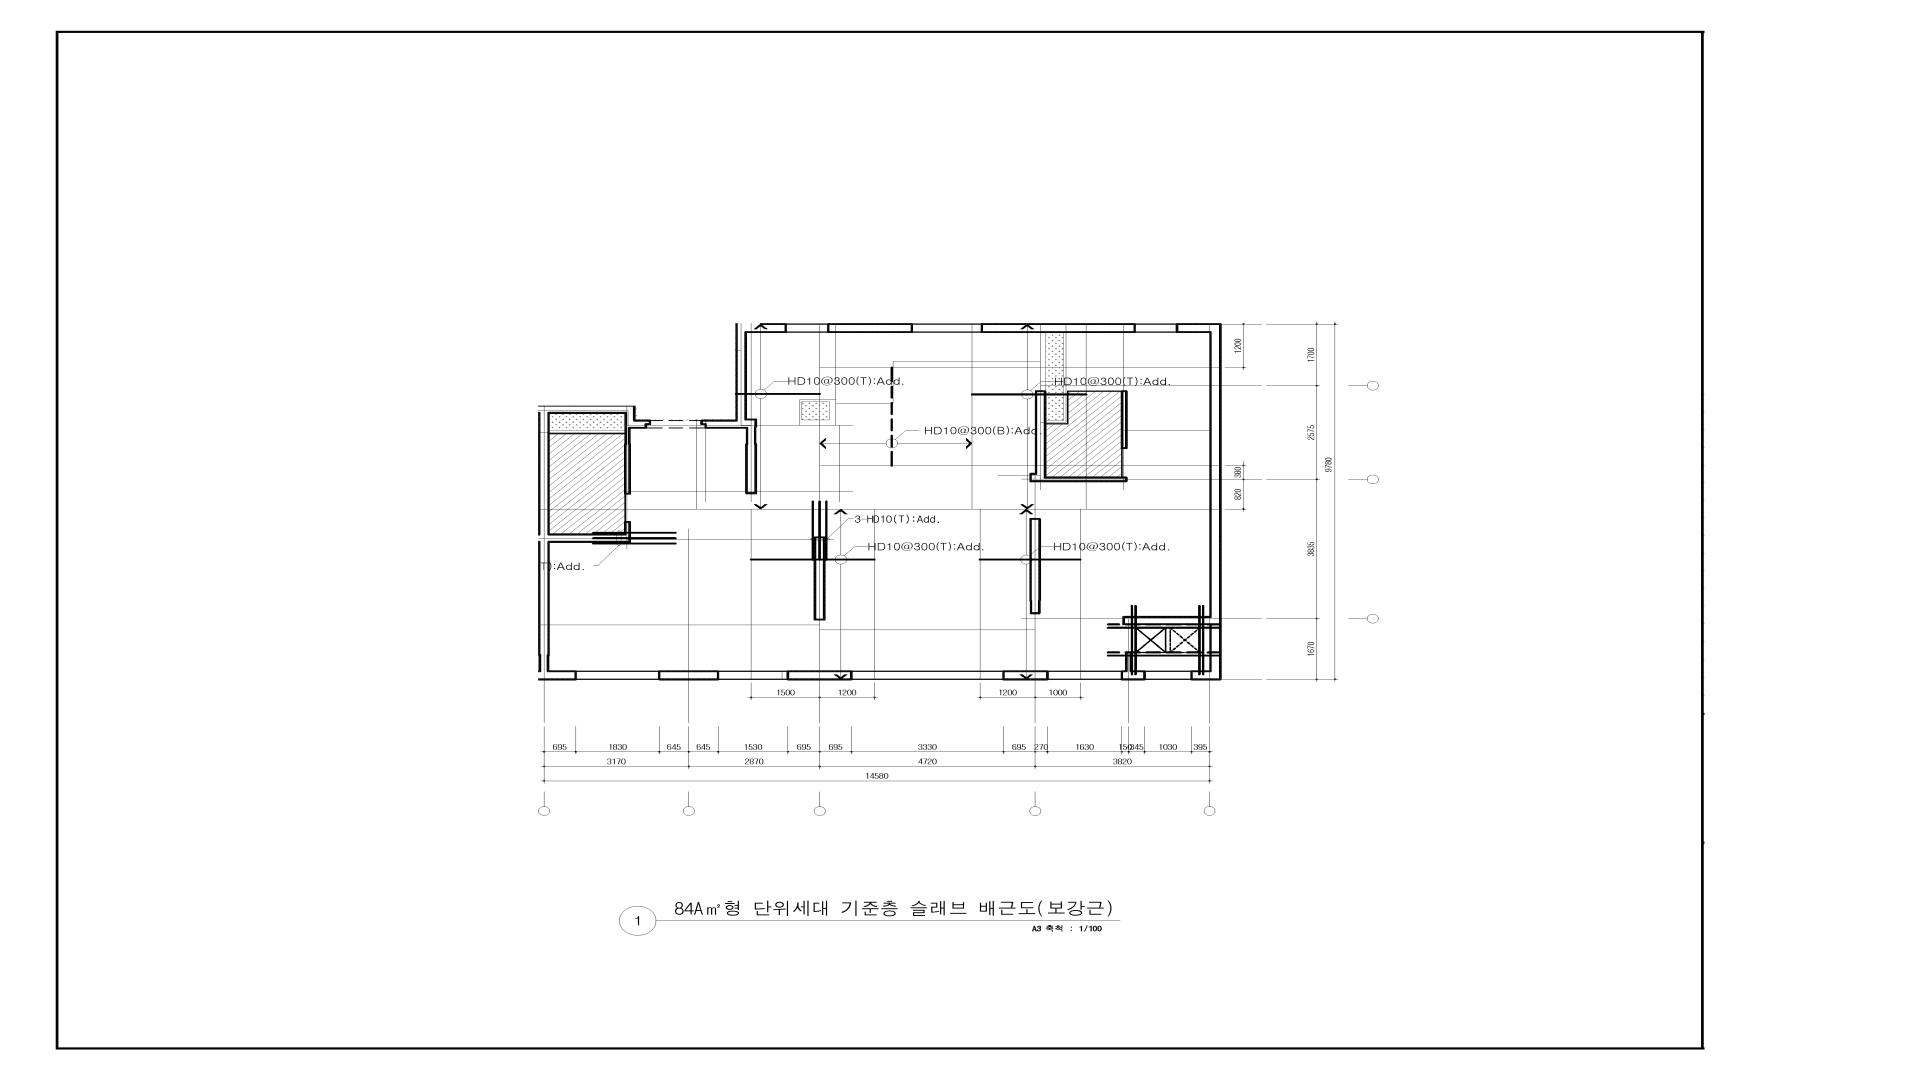wall: (1209, 333, 1222, 616), (981, 323, 1136, 333), (538, 406, 550, 534), (538, 543, 550, 656), (813, 536, 828, 620), (735, 333, 747, 419), (1029, 518, 1041, 601), (1035, 390, 1046, 473), (1122, 616, 1222, 625), (827, 323, 913, 333), (550, 533, 631, 543), (658, 670, 719, 681), (787, 670, 852, 680), (549, 406, 625, 414), (745, 444, 757, 494), (1209, 625, 1222, 670), (735, 323, 787, 333), (1003, 670, 1048, 681), (1046, 476, 1127, 482), (1176, 323, 1222, 333), (538, 670, 577, 681), (1121, 390, 1128, 449), (1190, 670, 1222, 681), (624, 444, 631, 494), (701, 419, 735, 429), (624, 420, 651, 429), (1121, 670, 1145, 680), (735, 419, 757, 429), (624, 406, 636, 420), (538, 656, 549, 670), (746, 429, 756, 444), (1030, 473, 1046, 482), (1030, 601, 1041, 614), (538, 533, 550, 543), (1125, 651, 1131, 670), (624, 429, 631, 444), (624, 521, 631, 534)
